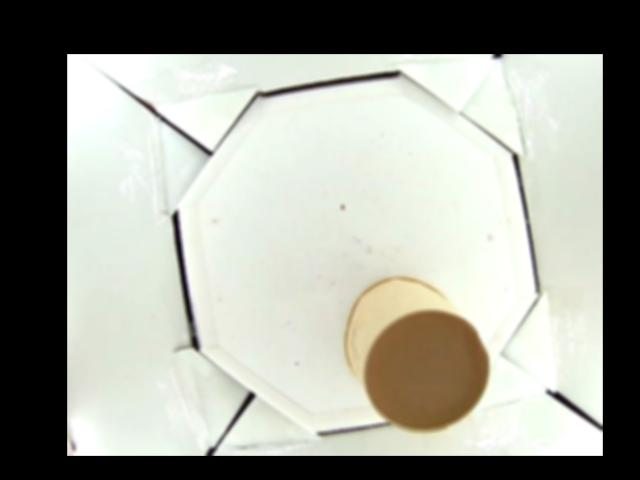Cup: (344, 275, 491, 432)
